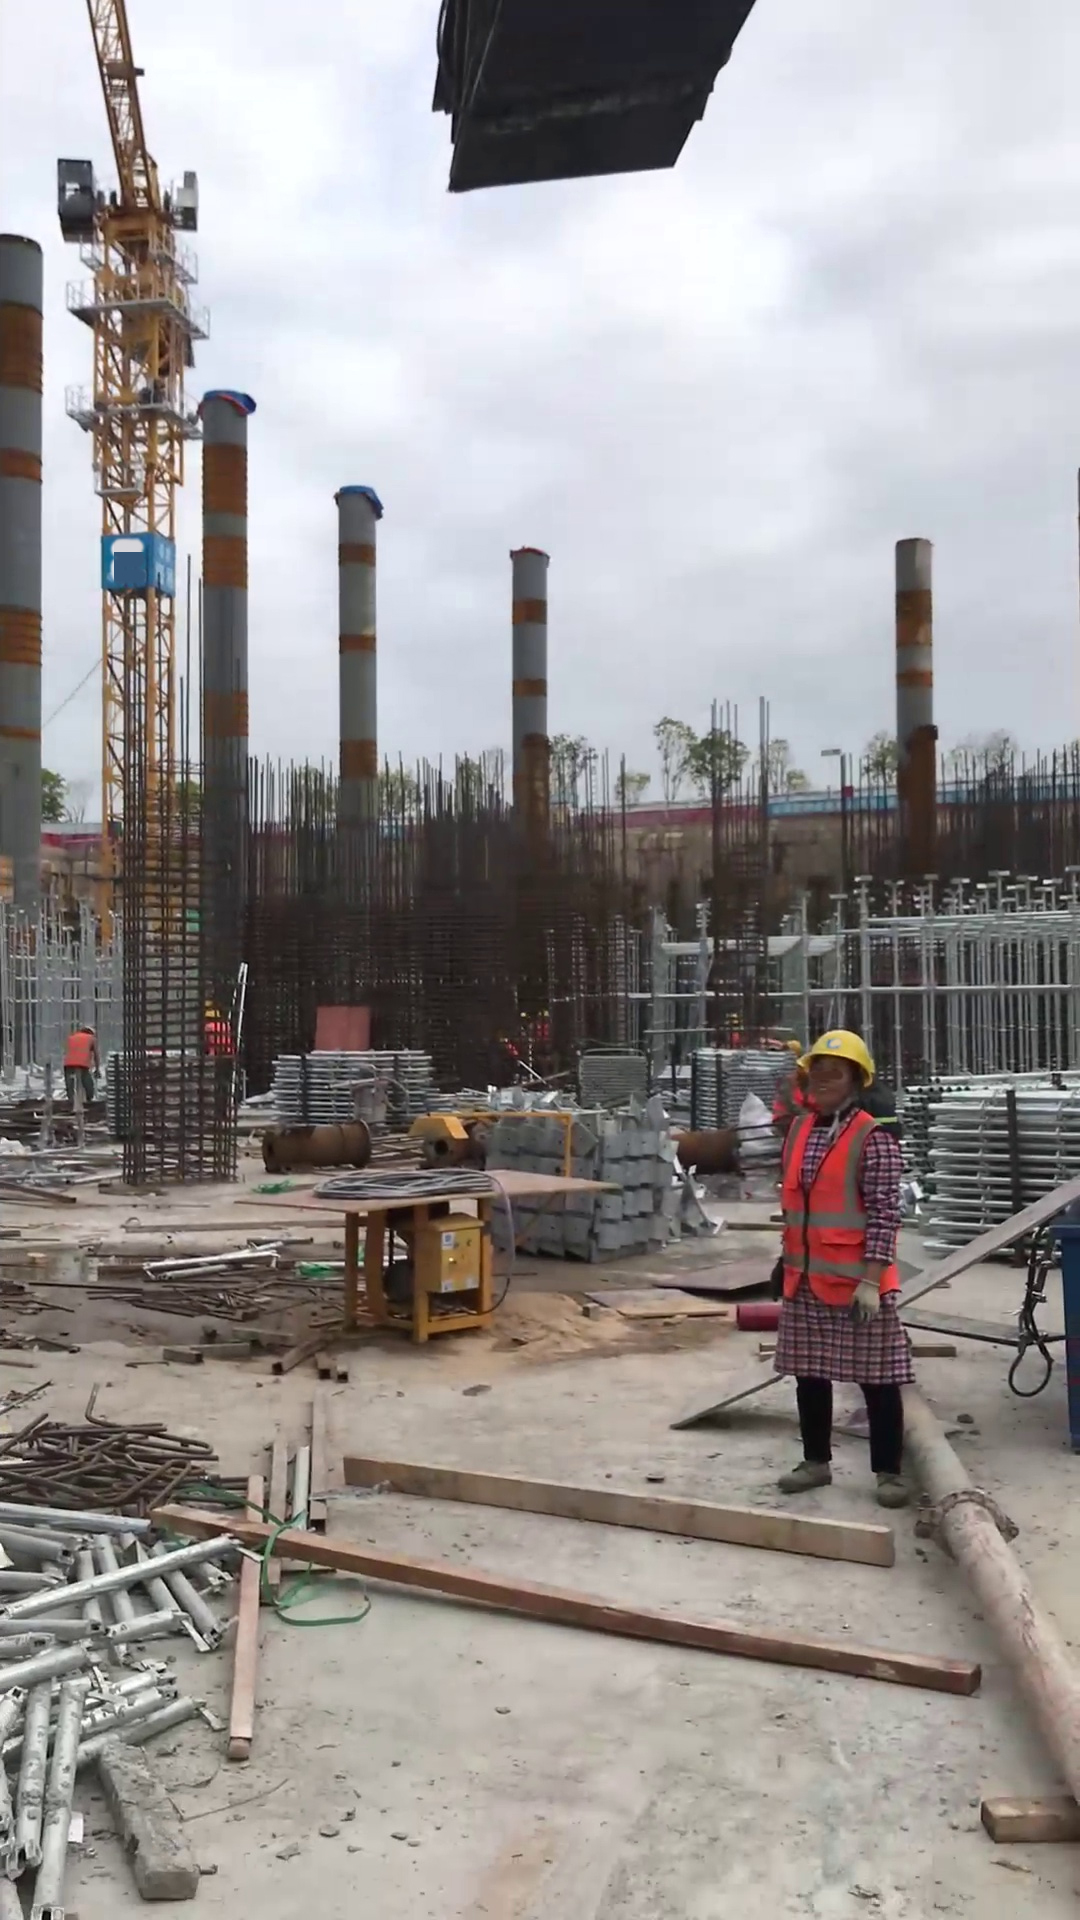board: (404, 1, 769, 206)
cutter: (252, 1165, 633, 1341)
helmet: (792, 1028, 886, 1090), (76, 1022, 101, 1038)
person: (737, 1015, 949, 1515), (51, 1015, 112, 1115)
scaffold: (911, 1067, 1080, 1277), (264, 1044, 437, 1146), (678, 1041, 795, 1132)
slogan: (769, 794, 844, 816)
vest: (774, 1107, 908, 1315), (60, 1032, 97, 1081)
